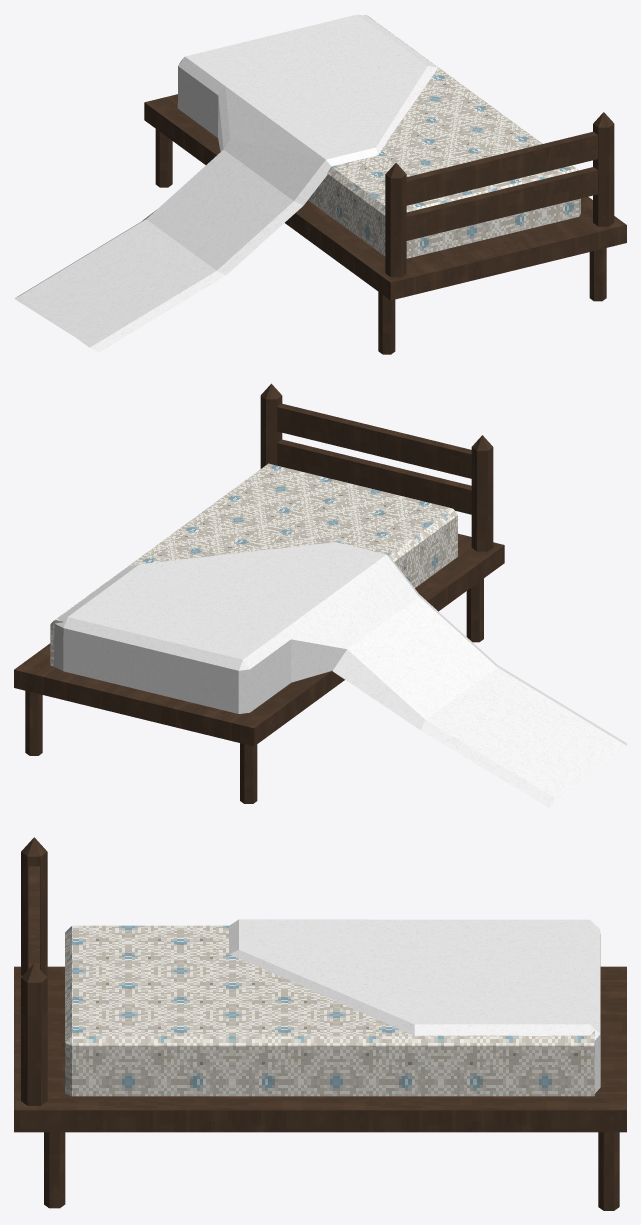
File: area1_bed.glb
3 views of the same model, one above another, from view 1: azimuth 30°, elevation 25°; view 2: azimuth 150°, elevation 25°; view 3: azimuth 270°, elevation 25° (orthographic). The views are drawn at different scales.
Visible parts, largest first — view 1: bed; view 2: bed; view 3: bed.
Boxes of the visible parts, x1,y1,x2,y2 form: bed: (14, 14, 626, 354); bed: (14, 383, 626, 808); bed: (14, 837, 626, 1210).
Bounding box in the file's own units: 197 × 83.1 × 188.
Materials: 3 (3 with a texture image).
